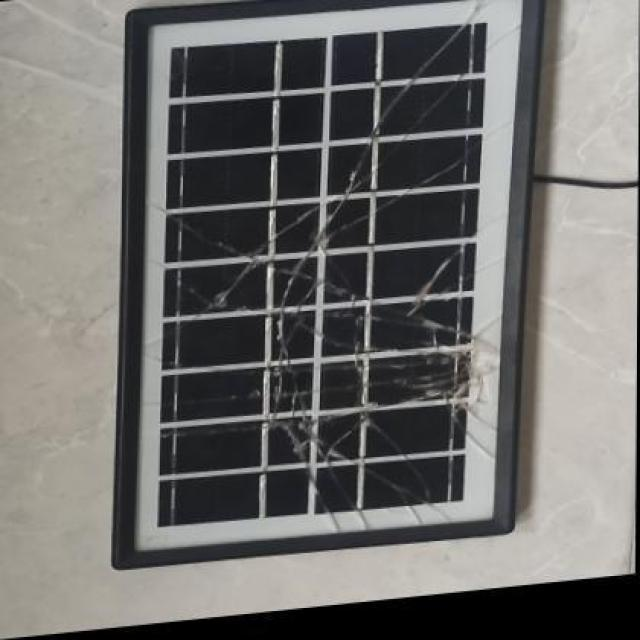cracked: (122, 1, 526, 548)
